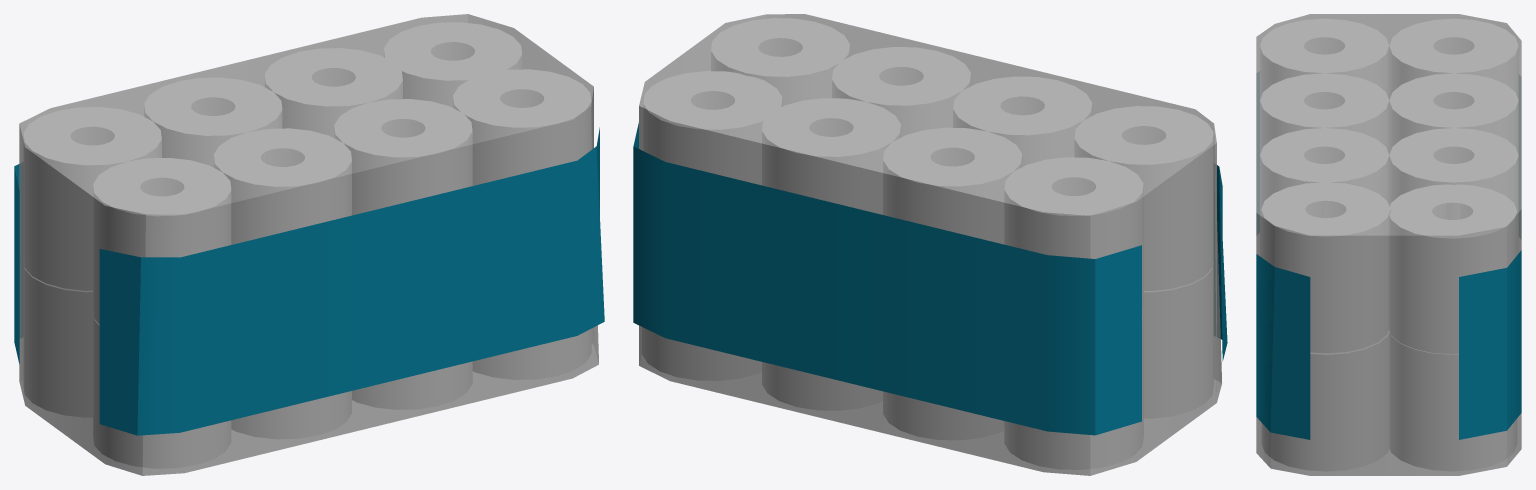
File: toilet_paper.fbx
3 renders of one model, left to right at view 1: azimuth 30°, elevation 25°; view 2: azimuth 150°, elevation 25°; view 3: azimuth 270°, elevation 25°, orthographic. The views are drawn at different scales.
Parts seen in each view (by area): view 1: new_toilet_paper; view 2: new_toilet_paper; view 3: new_toilet_paper.
Boxes of the visible parts, x1,y1,x2,y2 form: new_toilet_paper: [14, 14, 604, 475]; new_toilet_paper: [633, 14, 1227, 475]; new_toilet_paper: [1256, 14, 1521, 475].
Bounding box in the file's own units: 1.61 × 0.7947 × 0.7958.
